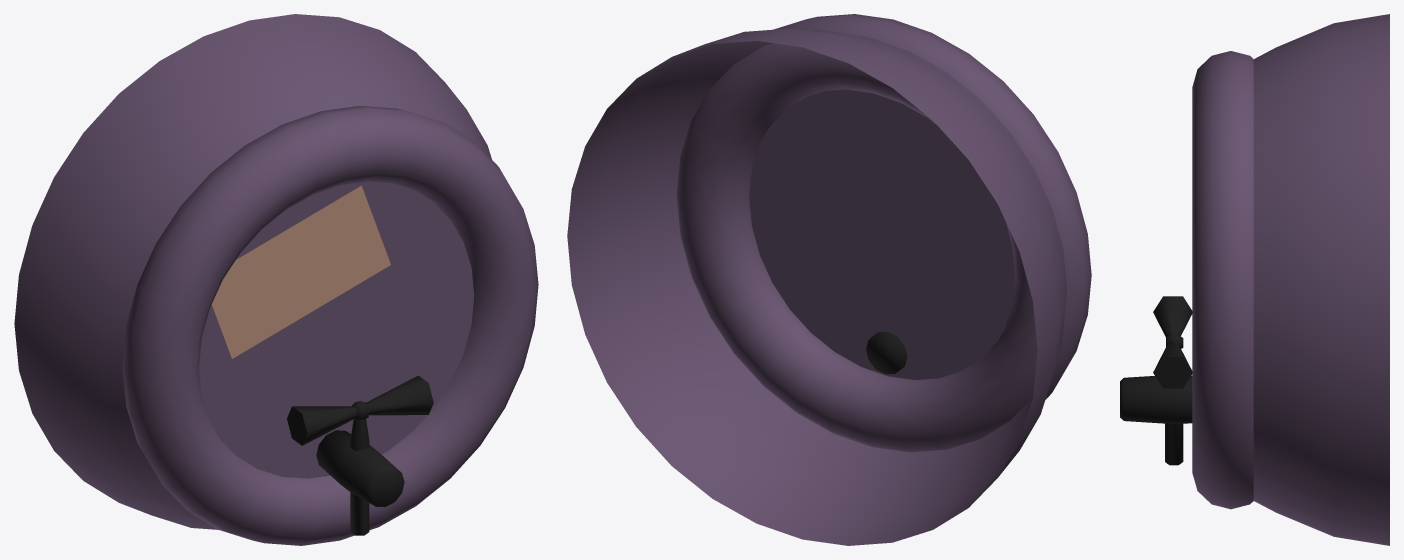
File: GB_085_barrel_tap.glb
The picture shows the model from 3 angles, left to right: view 1: azimuth 30°, elevation 25°; view 2: azimuth 150°, elevation 25°; view 3: azimuth 270°, elevation 25°; orthographic projection.
Parts seen in each view (by area): view 1: BarrelTap; view 2: BarrelTap; view 3: BarrelTap.
Boxes of the visible parts, x1,y1,x2,y2 form: BarrelTap: (14,14,538,545); BarrelTap: (567,14,1091,545); BarrelTap: (1120,14,1389,545).
Size of the model in its own units: 1.49 by 1.49 by 0.7553.
